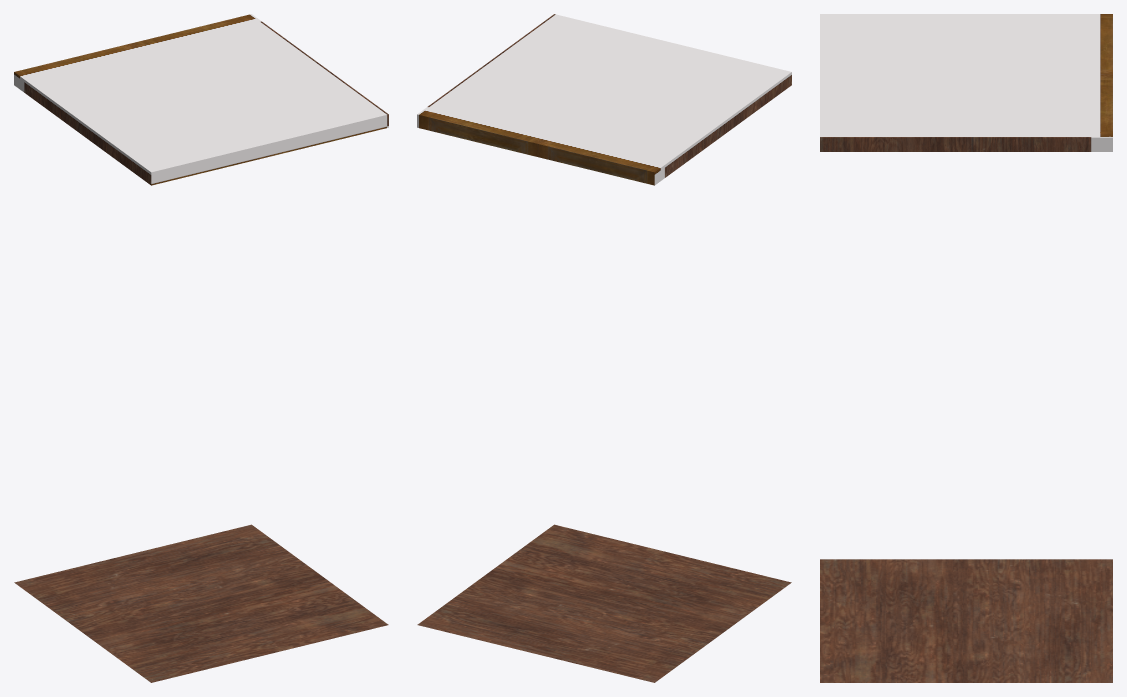
Rendered from floor_ceiling_double.fbx.
3 renders of one model, left to right at view 1: azimuth 30°, elevation 25°; view 2: azimuth 150°, elevation 25°; view 3: azimuth 270°, elevation 25°, orthographic. The views are drawn at different scales.
Parts seen in each view (by area): view 1: Floor_double; view 2: Floor_double; view 3: Floor_double.
Part boxes in pixels (box(x1,y1,x2,y2)): Floor_double: box(14, 14, 388, 682); Floor_double: box(417, 14, 791, 682); Floor_double: box(820, 14, 1112, 682).
Bounding box in the file's own units: 300 × 616 × 300.
